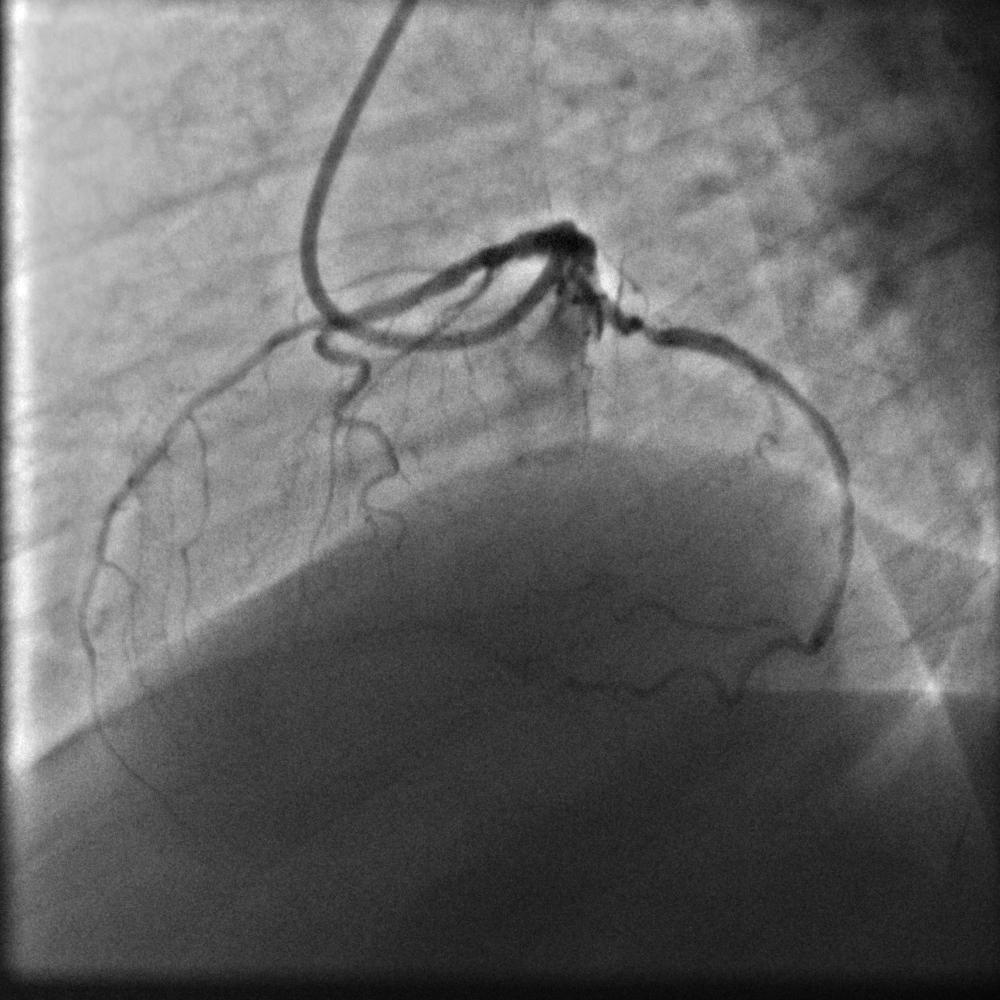Stenosis: (638, 315, 666, 348)
